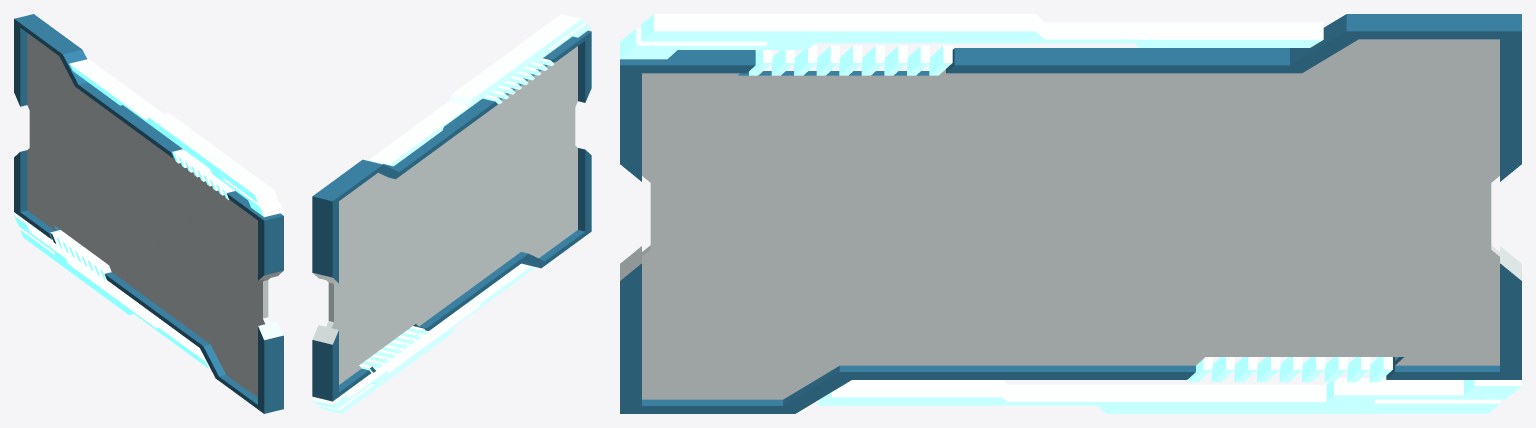
The model's file is Video Melayang.fbx.
3 renders of one model, left to right at view 1: azimuth 30°, elevation 25°; view 2: azimuth 150°, elevation 25°; view 3: azimuth 270°, elevation 25°, orthographic. The views are drawn at different scales.
Visible parts, largest first — view 1: VideoTron_Landscape_MagneticField1; view 2: VideoTron_Landscape_MagneticField1; view 3: VideoTron_Landscape_MagneticField1.
Part boxes in pixels (left/top/right/bottom): VideoTron_Landscape_MagneticField1: left=14, top=14, right=283, bottom=413; VideoTron_Landscape_MagneticField1: left=312, top=14, right=591, bottom=413; VideoTron_Landscape_MagneticField1: left=620, top=14, right=1521, bottom=413.
Size of the model in its own units: 40 by 412 by 880.
